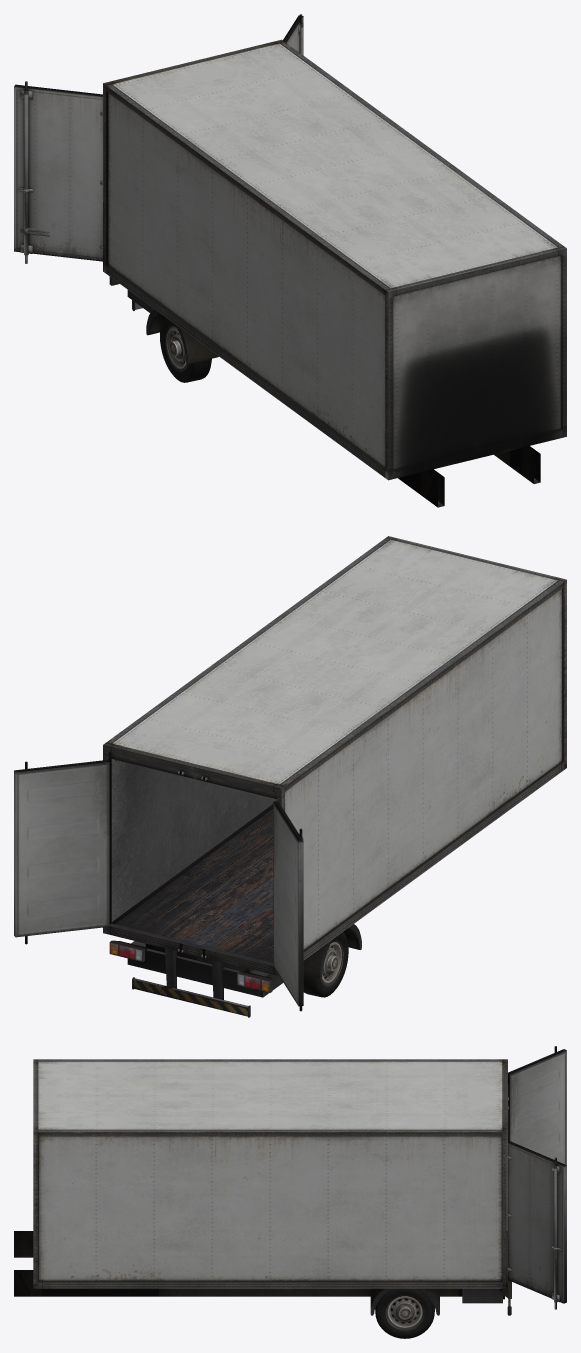
File: BackOfTruck.fbx
3 renders of one model, top to bottom at view 1: azimuth 30°, elevation 25°; view 2: azimuth 150°, elevation 25°; view 3: azimuth 270°, elevation 25°, orthographic. The views are drawn at different scales.
Parts seen in each view (by area): view 1: model_10.040; view 2: model_10.040; view 3: model_10.040.
Boxes of the visible parts, box(x1,y1,x2,y2) form: model_10.040: box(14, 14, 566, 507); model_10.040: box(14, 536, 566, 1017); model_10.040: box(14, 1046, 566, 1338).
Bounding box in the file's own units: 426 × 359 × 847.
1 material, 1 textured.
